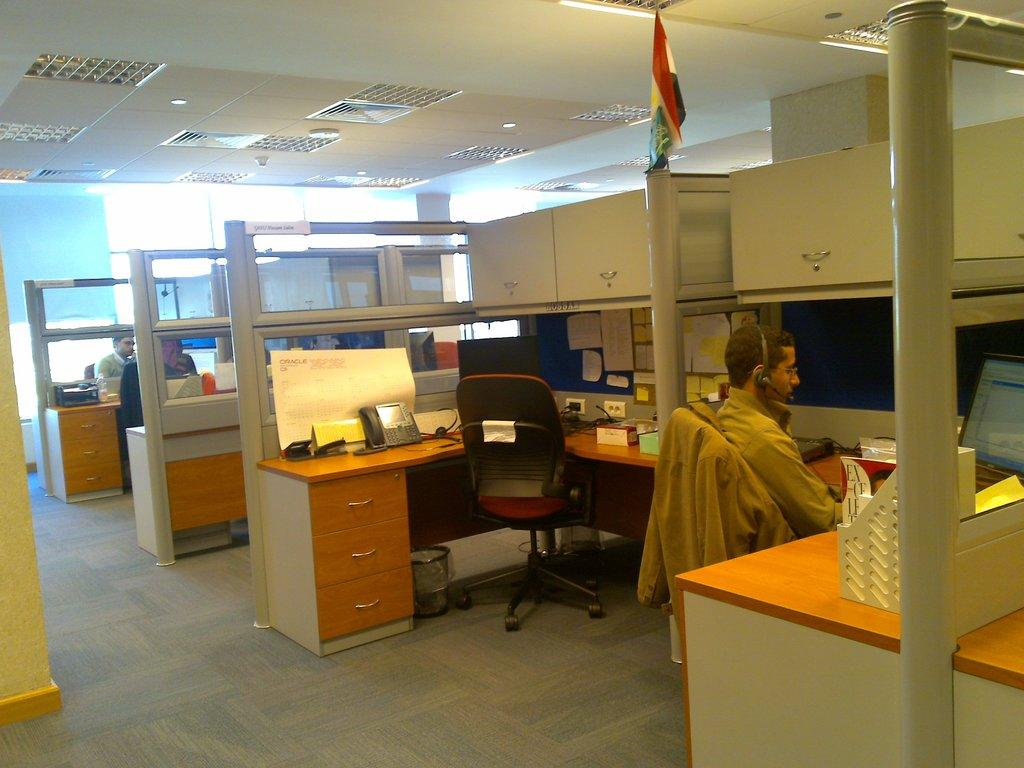cabinet_door: (730, 175, 894, 288), (558, 218, 648, 300), (466, 234, 562, 303), (315, 522, 404, 575), (306, 474, 400, 522), (328, 575, 409, 628), (66, 435, 118, 467), (68, 463, 120, 495), (60, 413, 118, 436)
handle: (350, 546, 376, 568), (344, 494, 374, 513), (349, 598, 383, 614), (800, 246, 830, 264), (497, 276, 521, 292), (596, 266, 617, 282), (84, 472, 104, 488), (80, 418, 98, 434), (80, 450, 98, 460)
